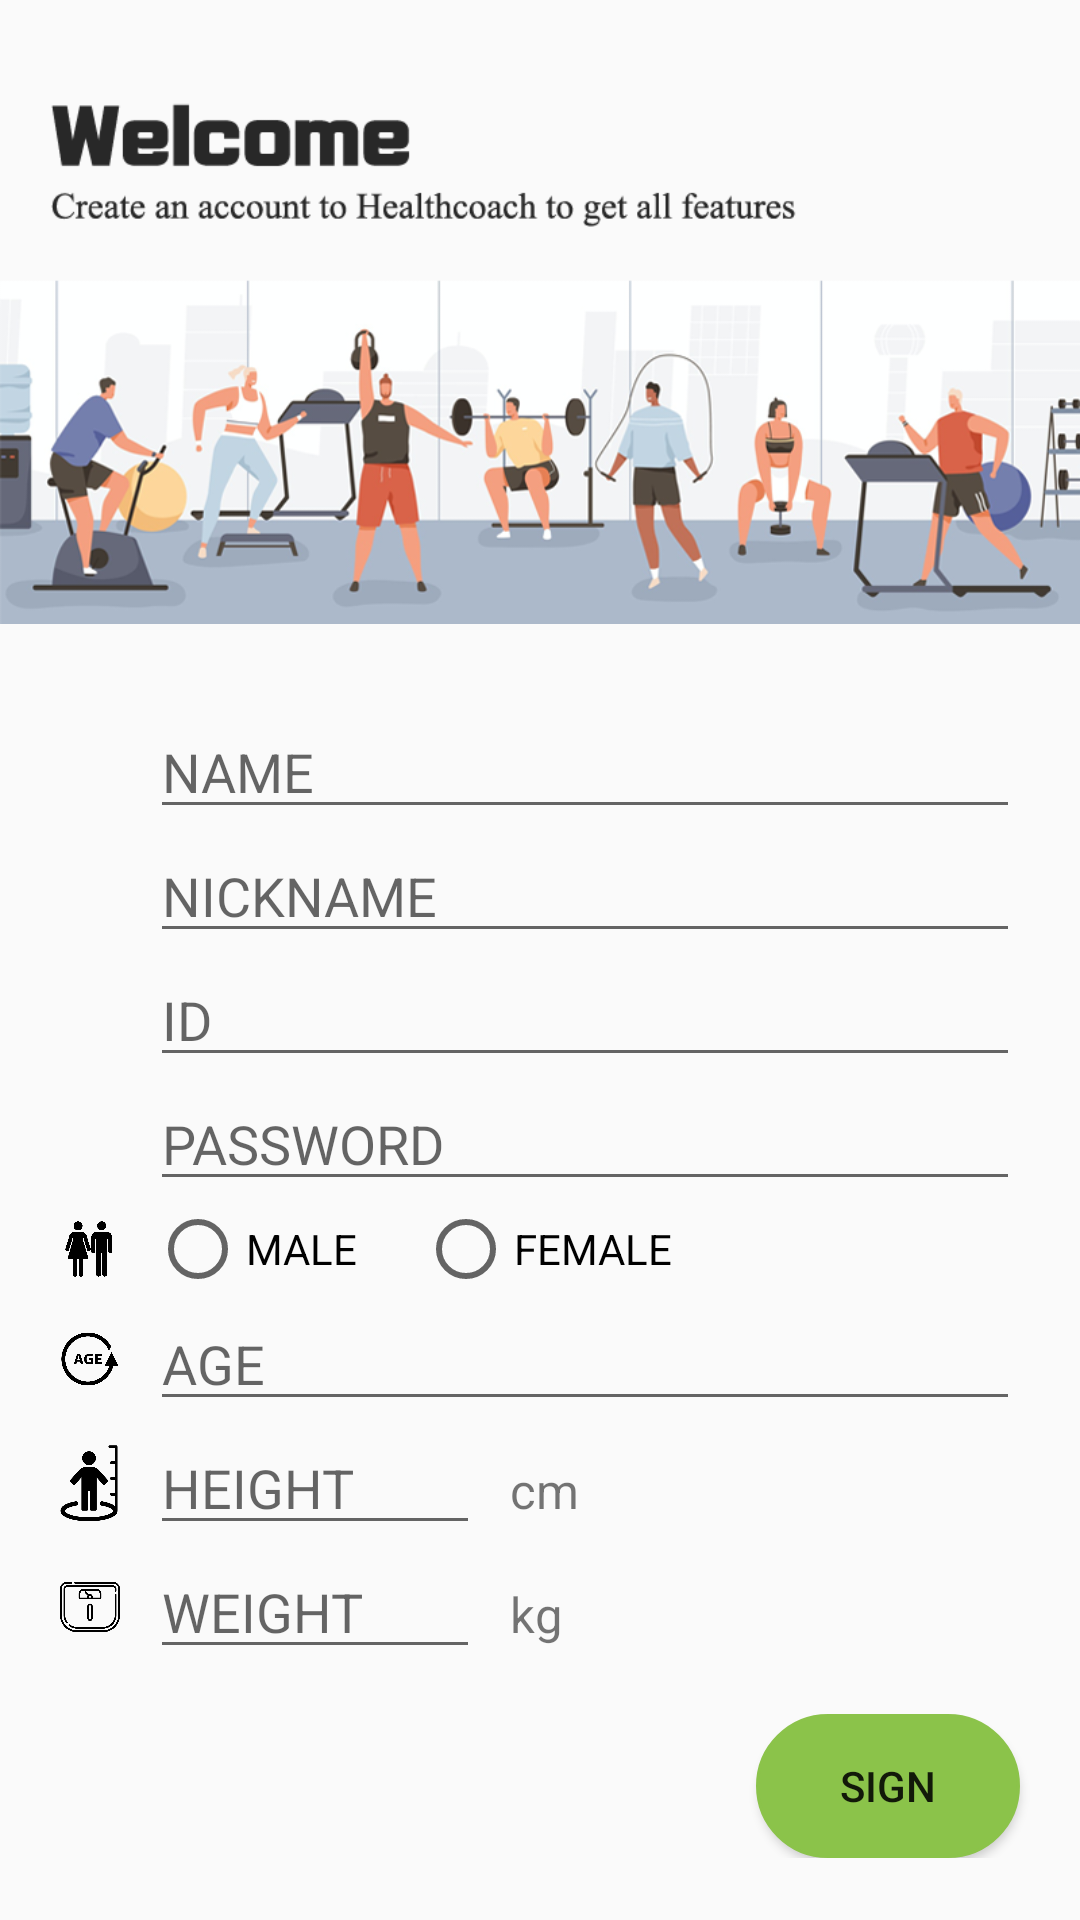

Point at icon controls on the screen. Image size 1080px x 1920px, points as point (x, y).
gender: point (88, 1249)
